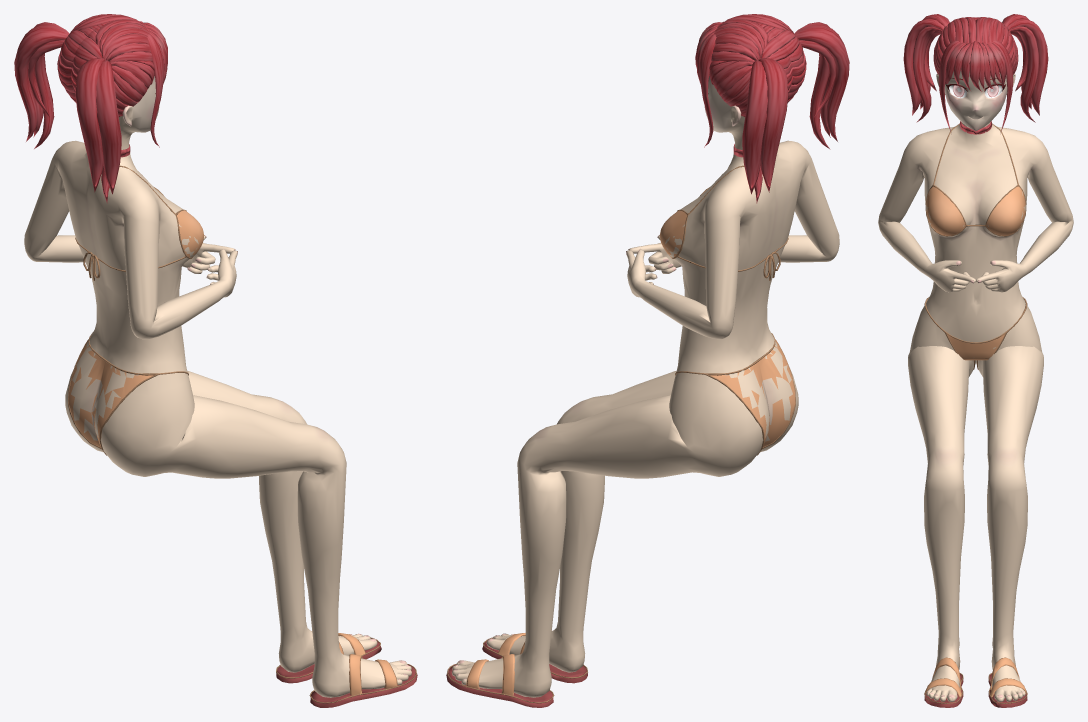
Rendered from anime_girl_sedi.glb.
The picture shows the model from 3 angles, left to right: view 1: azimuth 30°, elevation 25°; view 2: azimuth 150°, elevation 25°; view 3: azimuth 270°, elevation 25°; orthographic projection. The views are drawn at different scales.
Bounding box in the file's own units: 0.6855 × 1.34 × 0.4095.
4 materials, 4 textured.
